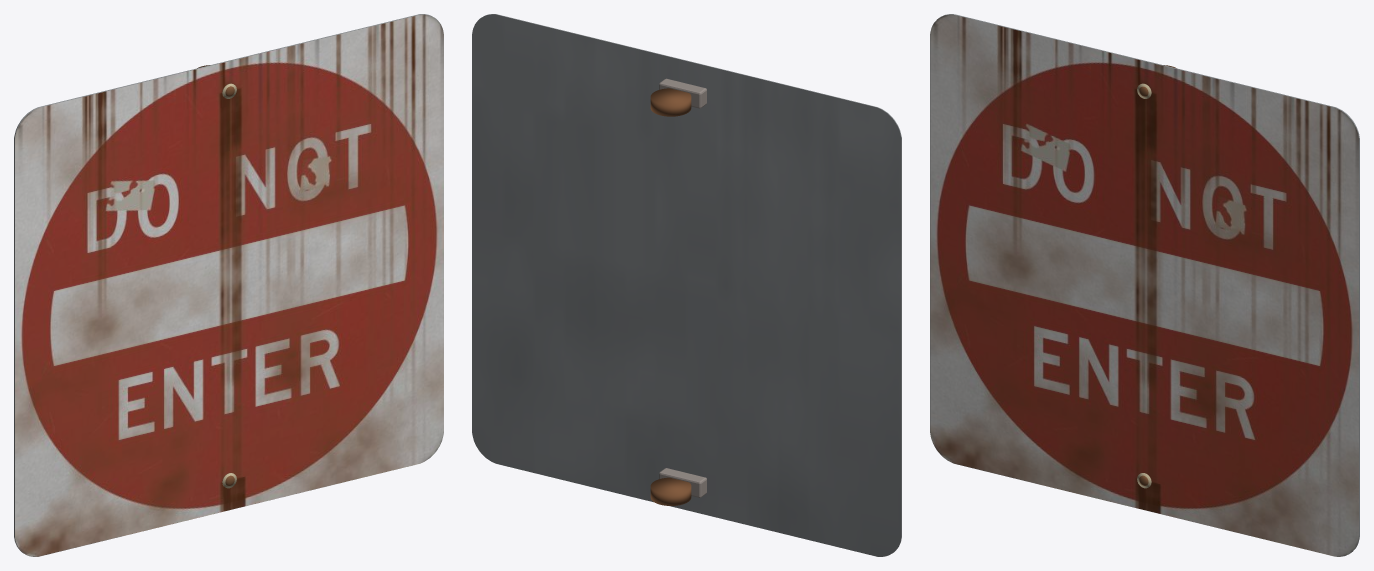
Rendered from doNotEnter-v1-rusty.glb.
3 views of the same model, side by side, from view 1: azimuth 30°, elevation 25°; view 2: azimuth 150°, elevation 25°; view 3: azimuth 330°, elevation 25° (orthographic).
Visible parts, largest first — view 1: doNotEnter-v1-rusty; view 2: doNotEnter-v1-rusty; view 3: doNotEnter-v1-rusty.
Part boxes in pixels (bbox=[...]): doNotEnter-v1-rusty: bbox=[14, 14, 443, 556]; doNotEnter-v1-rusty: bbox=[472, 14, 901, 556]; doNotEnter-v1-rusty: bbox=[930, 14, 1359, 556].
Bounding box in the file's own units: 0.762 × 0.762 × 0.0871.
Materials: 1 (1 with a texture image).
